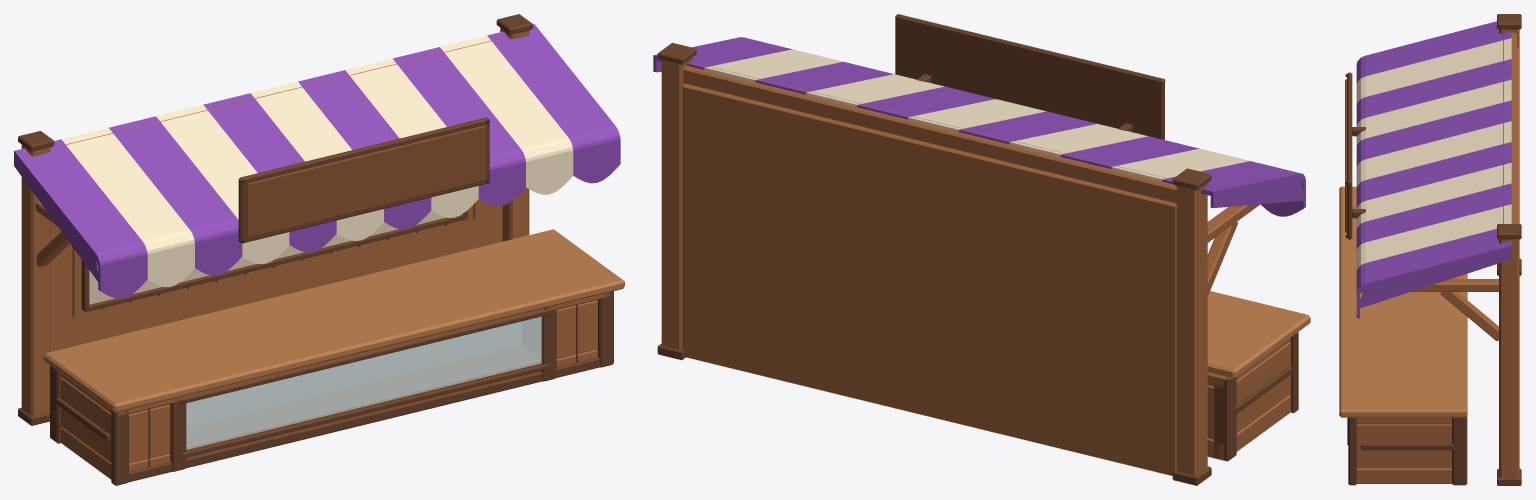
Rendered from Lodge_CollectionStall.fbx.
3 views of the same model, side by side, from view 1: azimuth 30°, elevation 25°; view 2: azimuth 150°, elevation 25°; view 3: azimuth 270°, elevation 25° (orthographic). The views are drawn at different scales.
Visible parts, largest first — view 1: AwningA, Countertop, AwningB, FnWood, FnWoodDark, Glass, SignFace, Posts, SignFrame, Backing; view 2: FnWood, Posts, SignFrame, AwningA, AwningB, Countertop, FnWoodDark; view 3: AwningA, Countertop, AwningB, Posts, FnWood, FnWoodDark, SignFrame, SignFace.
Boxes of the visible parts, <box> form: AwningA: <box>14,24,620,298</box>; Countertop: <box>43,229,624,449</box>; AwningB: <box>62,35,573,287</box>; FnWood: <box>50,199,611,479</box>; FnWoodDark: <box>18,14,613,485</box>; Glass: <box>186,316,541,449</box>; SignFace: <box>246,125,485,238</box>; Posts: <box>21,28,529,416</box>; SignFrame: <box>81,117,489,311</box>; Backing: <box>89,210,446,304</box>; FnWood: <box>682,84,1290,475</box>; Posts: <box>661,57,1259,475</box>; SignFrame: <box>895,14,1164,139</box>; AwningA: <box>653,37,1305,216</box>; AwningB: <box>704,49,1250,181</box>; Countertop: <box>1207,291,1310,378</box>; FnWoodDark: <box>657,42,1298,485</box>; AwningA: <box>1356,21,1511,318</box>; Countertop: <box>1339,186,1467,417</box>; AwningB: <box>1356,38,1511,270</box>; Posts: <box>1363,29,1519,477</box>; FnWood: <box>1357,47,1518,483</box>; FnWoodDark: <box>1347,14,1521,485</box>; SignFrame: <box>1347,72,1352,239</box>; SignFace: <box>1345,79,1346,232</box>.
Size of the model in its own units: 25 by 12.9 by 8.45.
